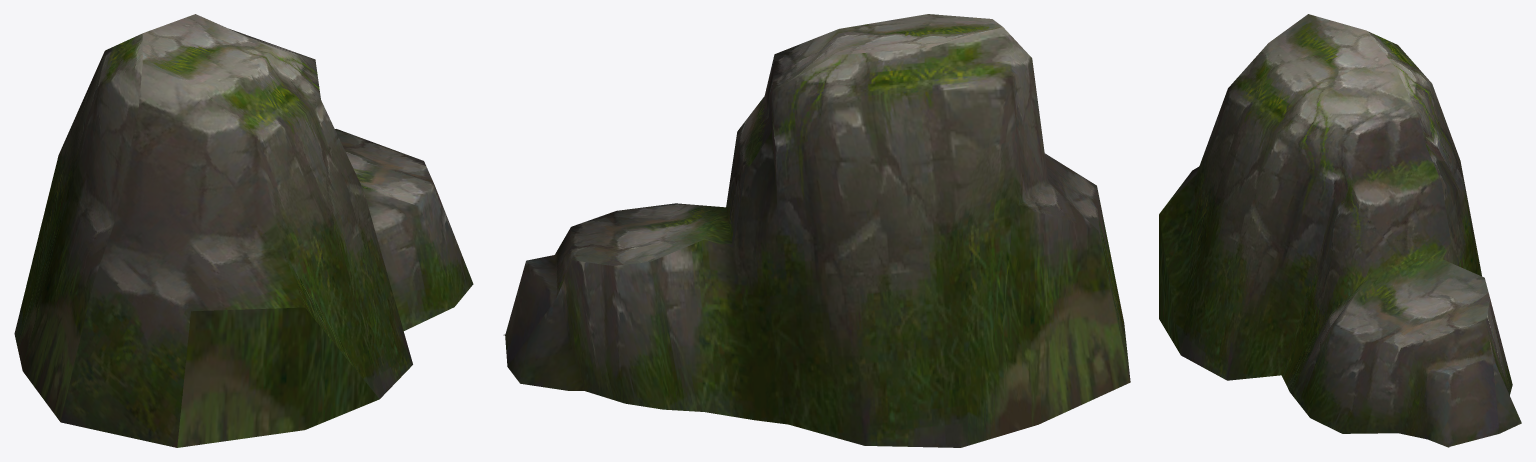
File: Map01_XiaoStone_03.FBX
3 views of the same model, side by side, from view 1: azimuth 30°, elevation 25°; view 2: azimuth 150°, elevation 25°; view 3: azimuth 270°, elevation 25° (orthographic). The views are drawn at different scales.
Visible parts, largest first — view 1: Map01_XiaoStone_03; view 2: Map01_XiaoStone_03; view 3: Map01_XiaoStone_03.
Part boxes in pixels (x1,y1,x2,y2): Map01_XiaoStone_03: [14, 14, 473, 447]; Map01_XiaoStone_03: [503, 14, 1130, 447]; Map01_XiaoStone_03: [1159, 14, 1521, 447].
Size of the model in its own units: 340 by 215 by 258.
